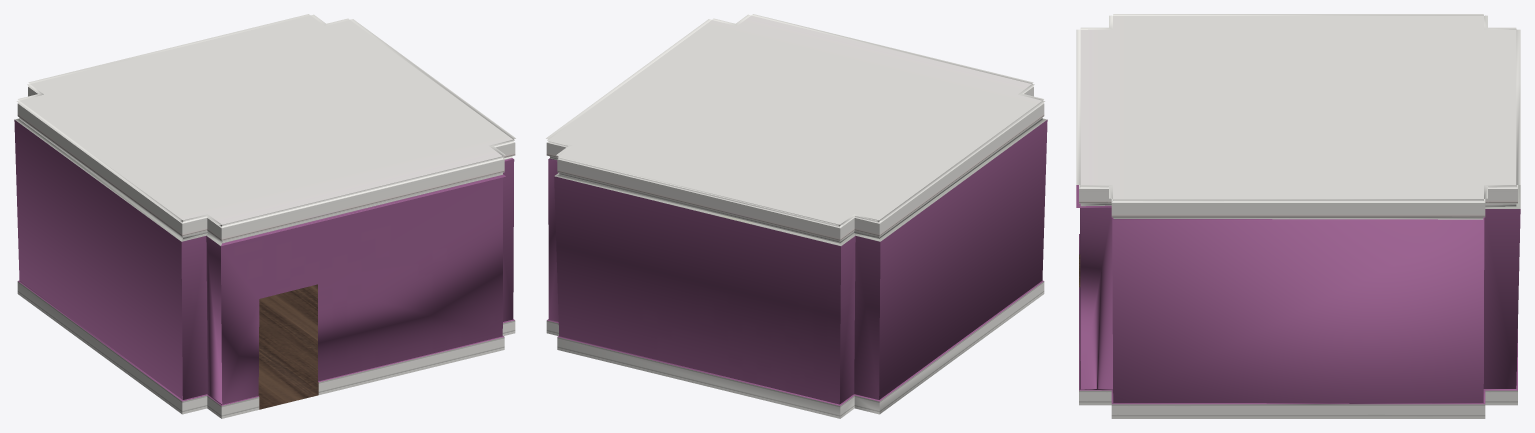
The model's file is humanroomv2.fbx.
The picture shows the model from 3 angles, left to right: view 1: azimuth 30°, elevation 25°; view 2: azimuth 150°, elevation 25°; view 3: azimuth 270°, elevation 25°; orthographic projection. The views are drawn at different scales.
Parts seen in each view (by area): view 1: humanroomv2; view 2: humanroomv2; view 3: humanroomv2.
Part boxes in pixels (bbox=[...]): humanroomv2: bbox=[14, 14, 515, 418]; humanroomv2: bbox=[546, 14, 1047, 418]; humanroomv2: bbox=[1076, 14, 1520, 418].
Bounding box in the file's own units: 507 × 278 × 510.
2 materials, 2 textured.
